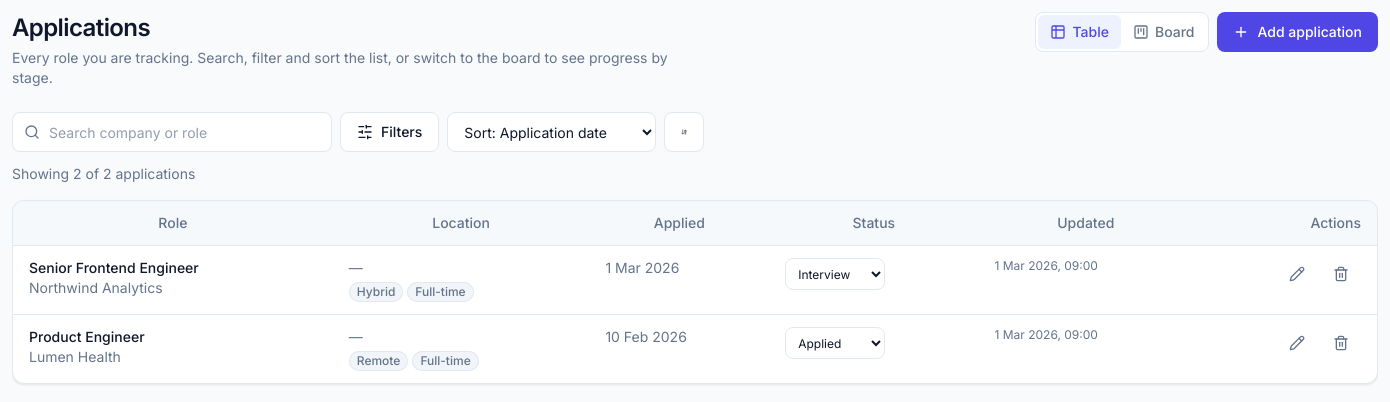
it: ApplicationsPage — search and filters › narrows the list by job title
This screenshot has width=1390, height=402.
Step 1. Type "frontend" into the search field named "search by company or role" → (172, 132), box [12,112,332,152]
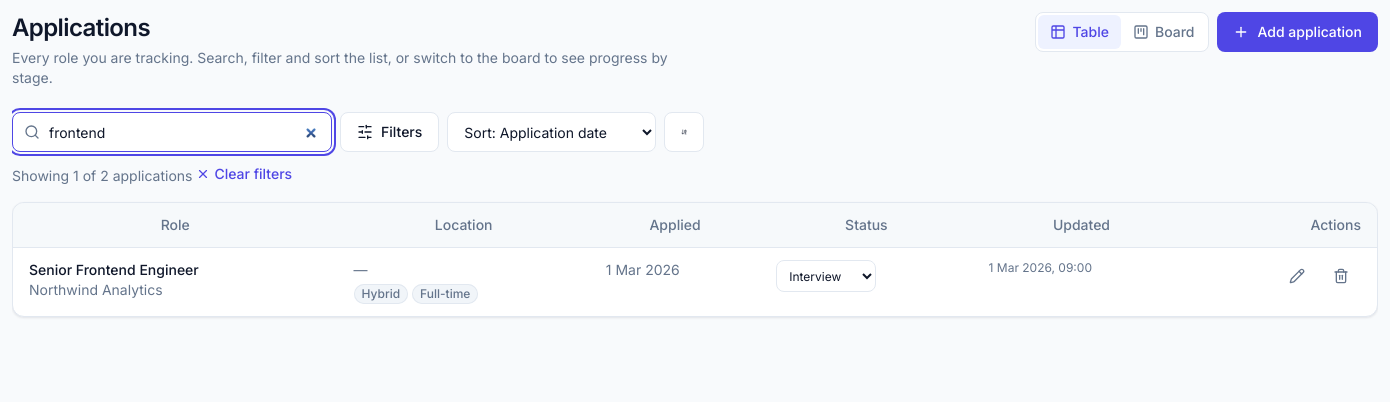
expect the text "Showing 1 of 2 applications Clear filters" is shown: met, box [12,164,292,184]
